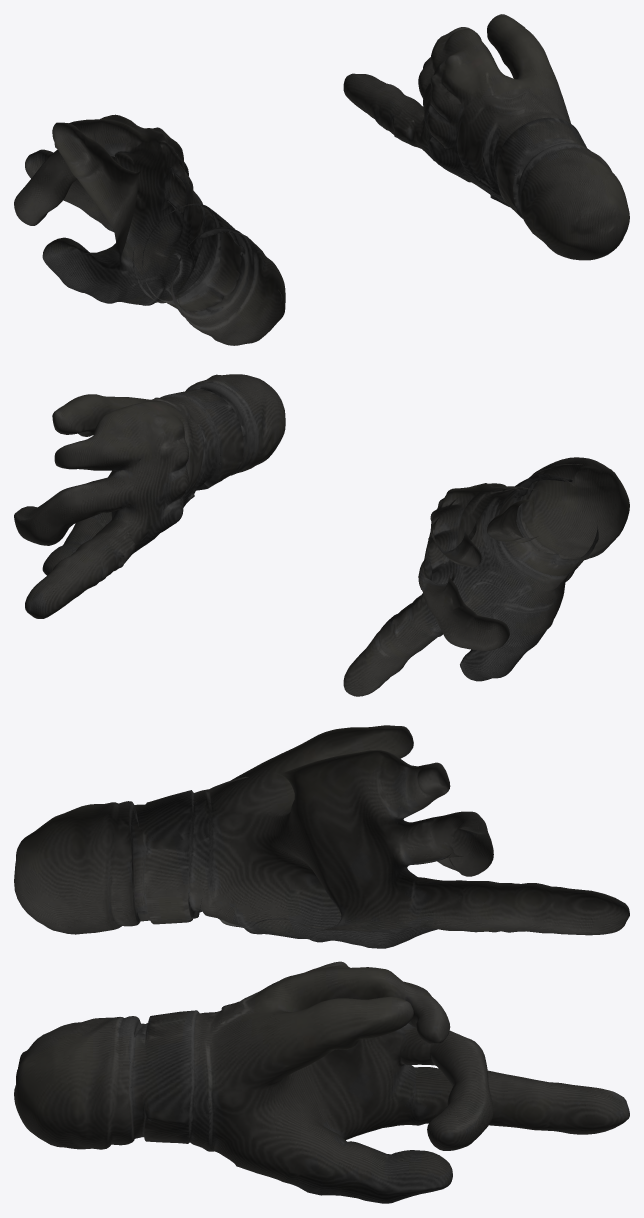
The model's file is glove.glb.
3 views of the same model, one above another, from view 1: azimuth 30°, elevation 25°; view 2: azimuth 150°, elevation 25°; view 3: azimuth 270°, elevation 25° (orthographic). The views are drawn at different scales.
Visible parts, largest first — view 1: glove_L, glove_R; view 2: glove_L, glove_R; view 3: glove_R, glove_L.
Part boxes in pixels (x1,y1,x2,y2): glove_L: (14, 114, 285, 345); glove_R: (343, 14, 629, 260); glove_L: (343, 457, 629, 696); glove_R: (14, 374, 285, 618); glove_R: (14, 961, 629, 1203); glove_L: (14, 725, 629, 948).
Bounding box in the file's own units: 1.11 × 0.3621 × 0.9502.
1 material, 1 textured.
